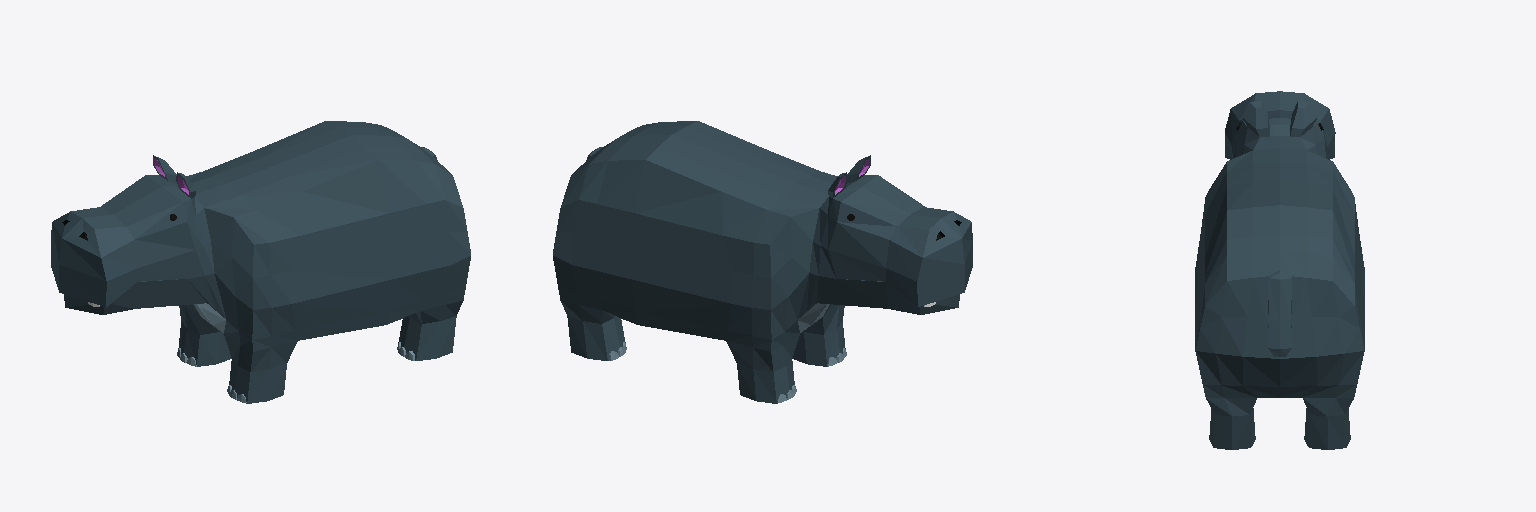
Rendered from Hippo_01.obj.
3 renders of one model, left to right at view 1: azimuth 30°, elevation 25°; view 2: azimuth 150°, elevation 25°; view 3: azimuth 270°, elevation 25°, orthographic.
Parts seen in each view (by area): view 1: Cube.031; view 2: Cube.031; view 3: Cube.031.
Boxes of the visible parts, box(x1,y1,x2,y2) form: Cube.031: box(51, 121, 470, 403); Cube.031: box(553, 121, 972, 403); Cube.031: box(1195, 91, 1364, 449).
Size of the model in its own units: 350 by 191 by 130.